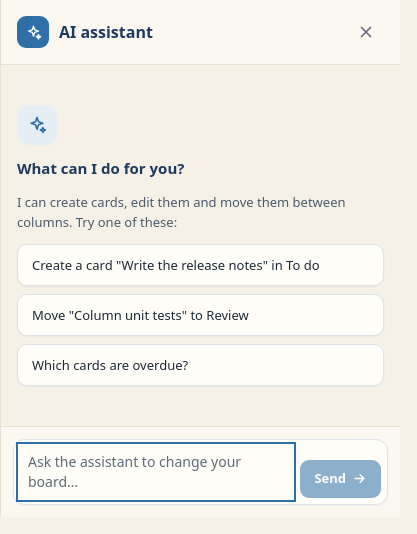
Test: errors, inside the panel › Try again resends the question and the answer replaces the error
Step 1. Type "Please" into the text box labelled "Ask the assistant to change your board…" → (156, 472), box [20,446,292,498]
Then press Enter
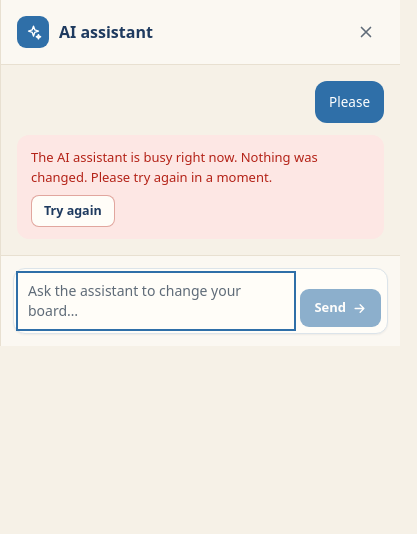
Step 2. Click the button "Try again" → click(73, 211), box [31,195,115,227]
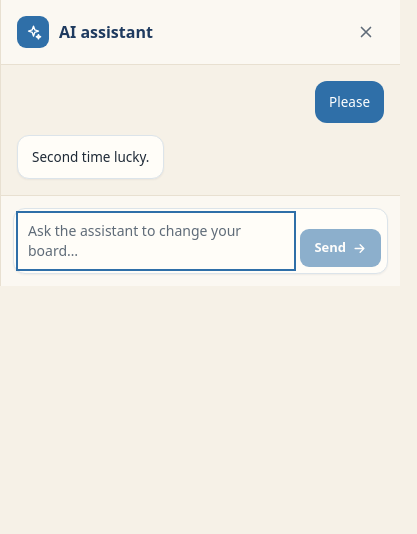
Expected: the number of elements with test id "ai-user-message" is 1, [315,81,384,123]
Expected: the text "Second time lucky." is shown, [17,135,164,179]
Expected: the message with test id "ai-error" is gone
